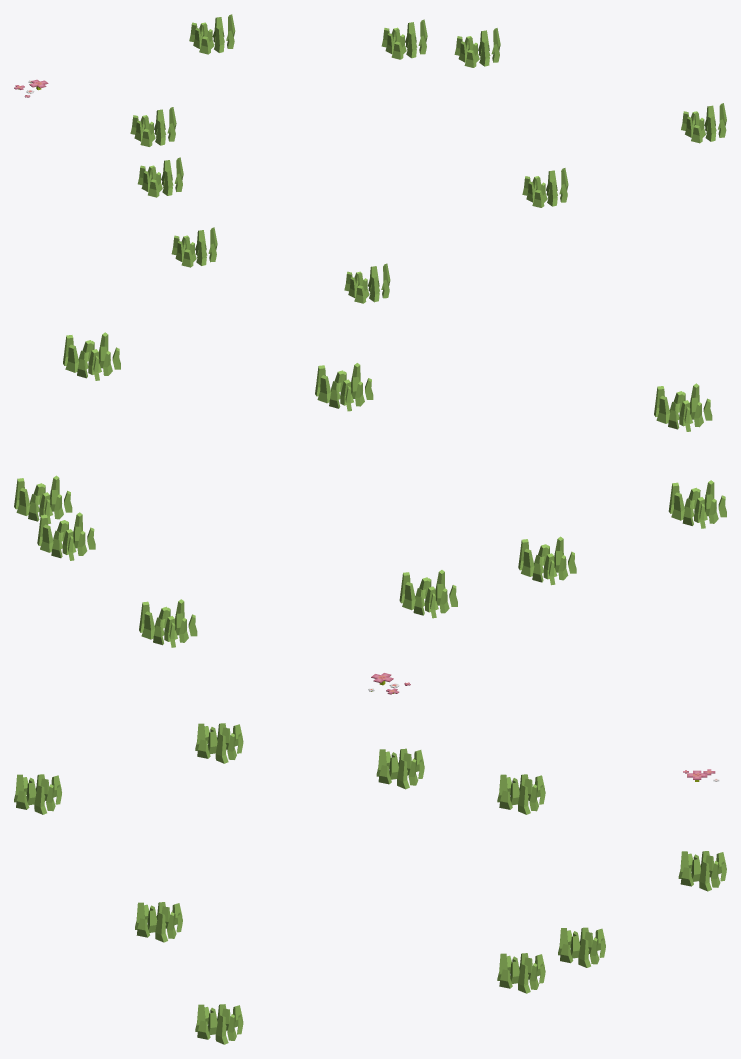
The model's file is flower_grass 18.fbx.
3 views of the same model, one above another, from view 1: azimuth 30°, elevation 25°; view 2: azimuth 150°, elevation 25°; view 3: azimuth 270°, elevation 25° (orthographic). The views are drawn at different scales.
Parts seen in each view (by area): view 1: Grass_3; view 2: Grass_3; view 3: Grass_3.
Part boxes in pixels (box(x1,y1,x2,y2)): Grass_3: box(14, 14, 726, 303); Grass_3: box(14, 332, 726, 694); Grass_3: box(14, 723, 726, 1044).
Size of the model in its own units: 7146 by 294 by 7079.
2 materials, 2 textured.
